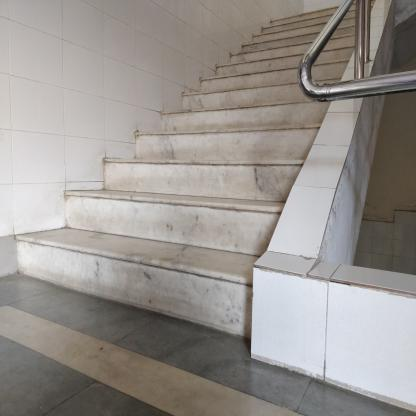stairs: (108, 174, 246, 342)
